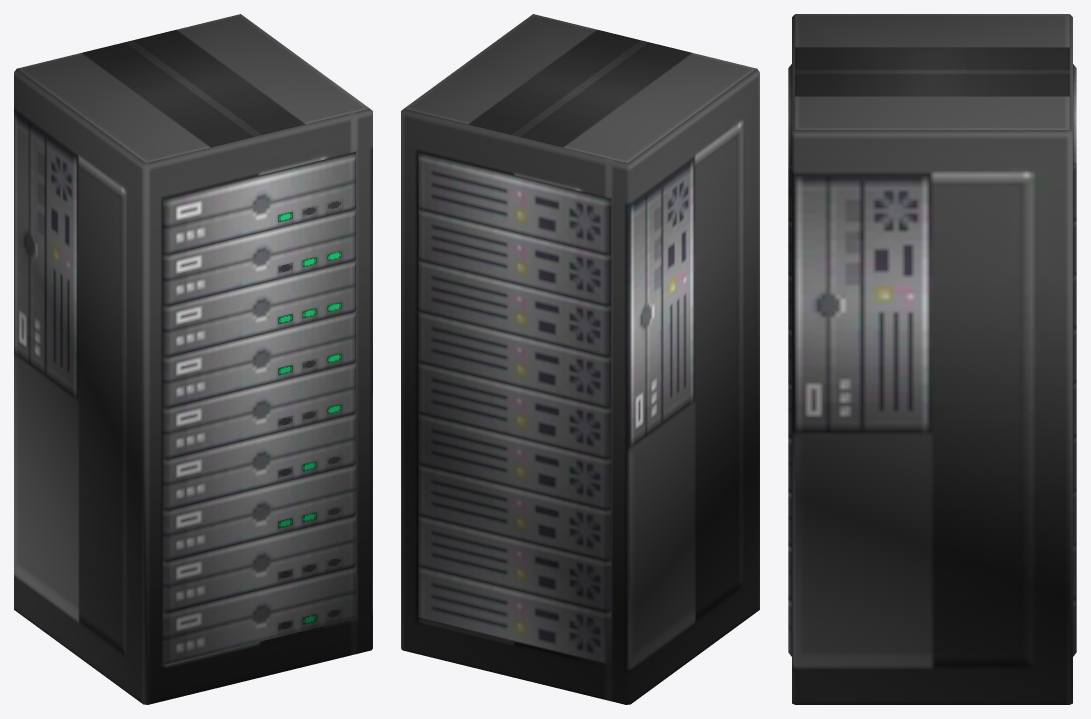
File: int_oth_server.dae
The picture shows the model from 3 angles, left to right: view 1: azimuth 30°, elevation 25°; view 2: azimuth 150°, elevation 25°; view 3: azimuth 270°, elevation 25°; orthographic projection. The views are drawn at different scales.
Parts seen in each view (by area): view 1: int_oth_server; view 2: int_oth_server; view 3: int_oth_server.
Part boxes in pixels (left/top/right/bottom): int_oth_server: left=14, top=14, right=372, bottom=704; int_oth_server: left=401, top=14, right=759, bottom=704; int_oth_server: left=788, top=14, right=1076, bottom=704.
Bounding box in the file's own units: 28.46 × 64.03 × 29.18.
Materials: 2 (2 with a texture image).
